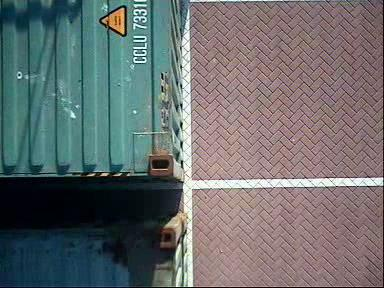groundmarker_2: (180, 146, 242, 232)
